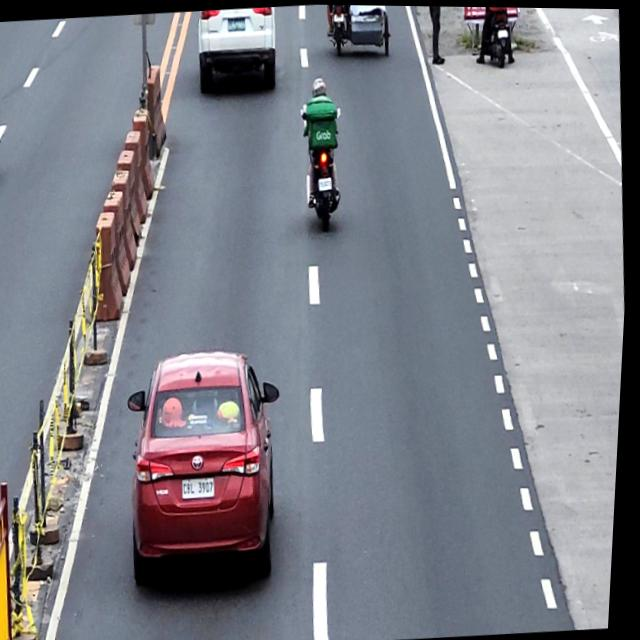Car: (120, 343, 298, 588), (192, 5, 280, 93)
License-Plate: (184, 473, 221, 499), (226, 15, 246, 31), (319, 176, 334, 190), (333, 11, 344, 22), (497, 27, 509, 37)
Motorcycle: (295, 97, 351, 231), (483, 6, 519, 67), (0, 80, 7, 178)
Tricycle: (326, 4, 395, 63)
